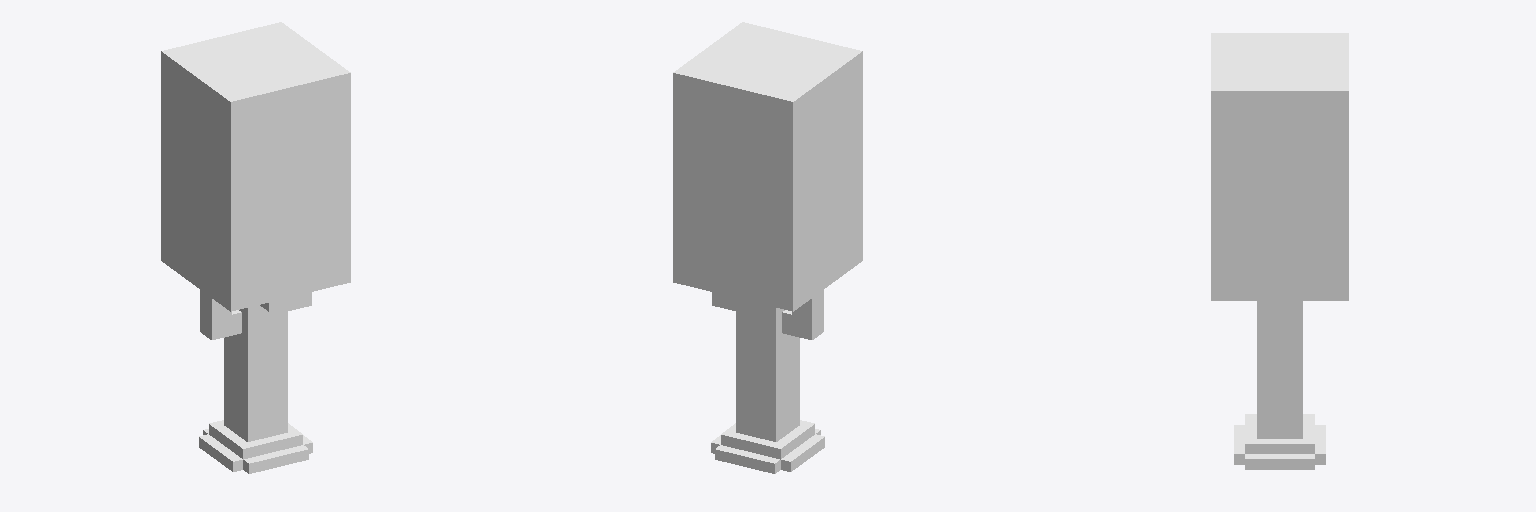
Rendered from Trees-9.obj.
3 renders of one model, left to right at view 1: azimuth 30°, elevation 25°; view 2: azimuth 150°, elevation 25°; view 3: azimuth 270°, elevation 25°, orthographic.
Parts seen in each view (by area): view 1: object 1; view 2: object 1; view 3: object 1.
Part boxes in pixels (bbox=[...]): object 1: bbox=[161, 22, 350, 473]; object 1: bbox=[673, 22, 862, 473]; object 1: bbox=[1211, 33, 1348, 469].
Size of the model in its own units: 1.2 by 3.7 by 1.2.